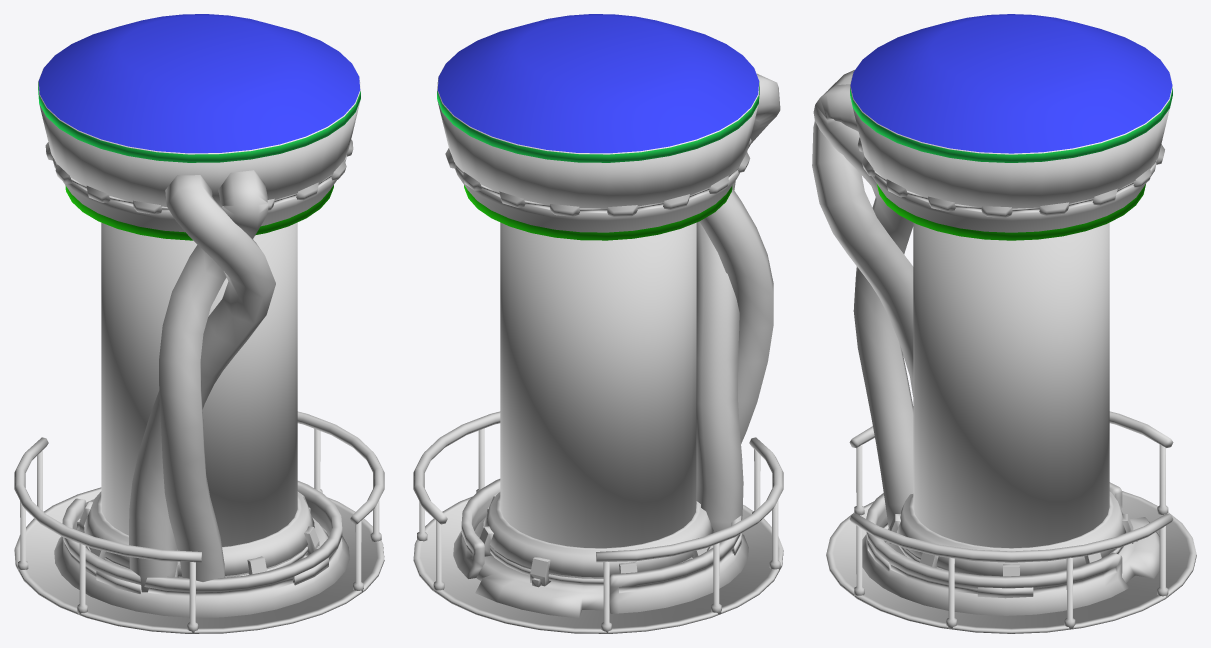
File: cuve.fbx
3 renders of one model, left to right at view 1: azimuth 30°, elevation 25°; view 2: azimuth 150°, elevation 25°; view 3: azimuth 270°, elevation 25°, orthographic.
Visible parts, largest first — view 1: cuve_cage, Chapeau, Vitre, Led haut; view 2: cuve_cage, Vitre, Chapeau, Led haut; view 3: cuve_cage, Vitre, Chapeau, Led haut.
Boxes of the visible parts, x1=… form: cuve_cage: x1=14, y1=100, x2=384, y2=633; Chapeau: x1=38, y1=14, x2=360, y2=162; Vitre: x1=101, y1=222, x2=297, y2=546; Led haut: x1=45, y1=139, x2=353, y2=214; cuve_cage: x1=413, y1=73, x2=783, y2=633; Vitre: x1=500, y1=222, x2=696, y2=548; Chapeau: x1=437, y1=14, x2=759, y2=162; Led haut: x1=445, y1=138, x2=751, y2=217; cuve_cage: x1=812, y1=70, x2=1196, y2=633; Vitre: x1=913, y1=222, x2=1109, y2=548; Chapeau: x1=850, y1=14, x2=1172, y2=162; Led haut: x1=858, y1=137, x2=1164, y2=217.
Size of the model in its own units: 267 by 407 by 276.
